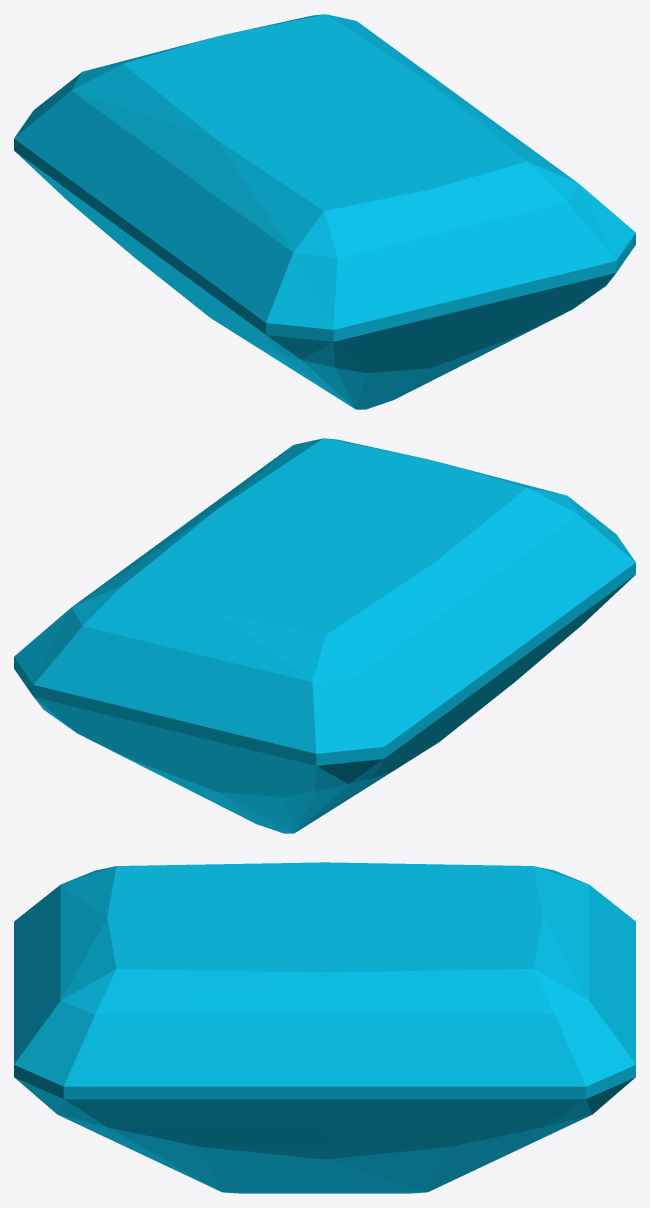
The model's file is Head_Single Halo_Radiant_2.0ct_Diamond.glb.
The picture shows the model from 3 angles, top to bottom: view 1: azimuth 30°, elevation 25°; view 2: azimuth 150°, elevation 25°; view 3: azimuth 270°, elevation 25°; orthographic projection. The views are drawn at different scales.
Bounding box in the file's own units: 0.00643 × 0.00443 × 0.00903.
